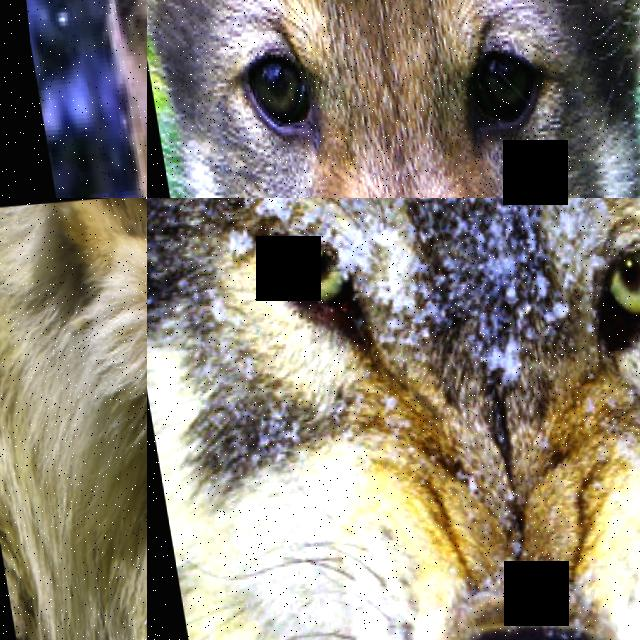wolf: (147, 198, 640, 640), (147, 0, 640, 198), (0, 198, 147, 640), (12, 0, 147, 198)
